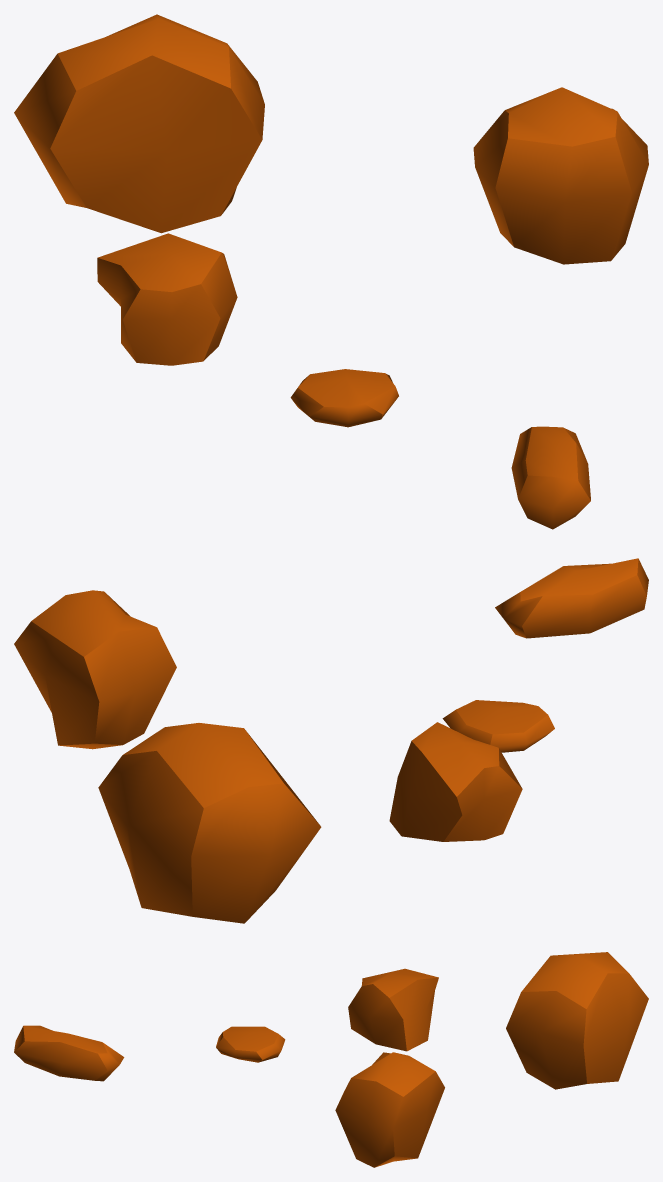
File: small_rocks.fbx
3 renders of one model, top to bottom at view 1: azimuth 30°, elevation 25°; view 2: azimuth 150°, elevation 25°; view 3: azimuth 270°, elevation 25°, orthographic. The views are drawn at different scales.
Visible parts, largest first — view 1: small_rock02, small_rock04, small_rock01, small_rock05, small_rock03; view 2: small_rock02, small_rock04, small_rock01, small_rock05, small_rock03; view 3: small_rock02, small_rock04, small_rock01, small_rock05, small_rock03.
Part boxes in pixels (x1,y1,x2,y2): small_rock02: (14,14,264,233); small_rock04: (473,87,648,264); small_rock01: (97,233,237,365); small_rock05: (511,426,590,529); small_rock03: (290,369,398,427); small_rock02: (98,723,321,923); small_rock04: (14,590,176,749); small_rock01: (389,722,522,841); small_rock05: (495,558,648,638); small_rock03: (442,700,554,752); small_rock02: (506,952,648,1089); small_rock04: (335,1052,444,1167); small_rock01: (348,968,438,1051); small_rock05: (14,1025,124,1081); small_rock03: (216,1026,285,1062).
Size of the model in its own units: 6.34 by 2.23 by 10.17.
